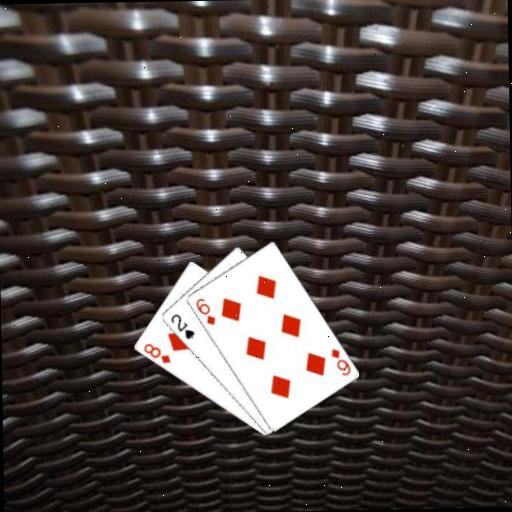2S: (168, 311, 196, 341)
6D: (328, 345, 353, 377), (193, 295, 217, 327)
8D: (140, 340, 172, 366)
